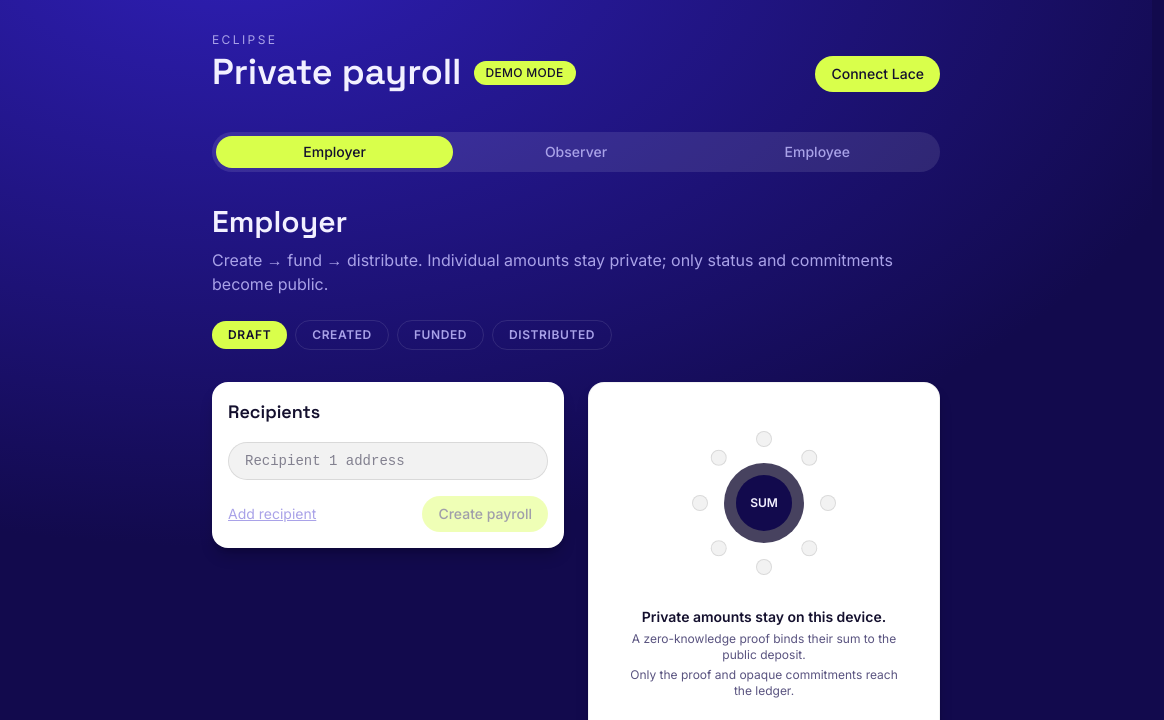
Scenario: AppShell › renders mode tag and announces wallet connection state changes
Check: the text "Demo mode" is shown, box [474,61,576,85]
Click the button "Connect Lace" at (878,74), box [816,56,940,92]
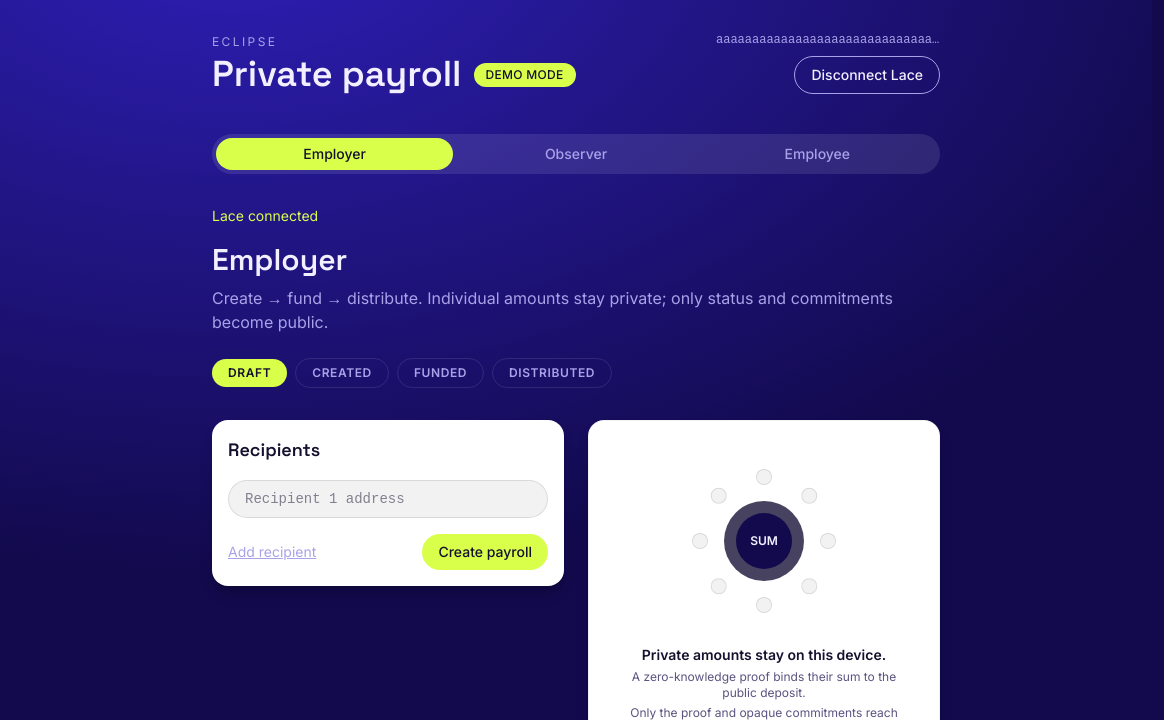
Check: the message reads "Lace connected", box [212,207,318,224]
